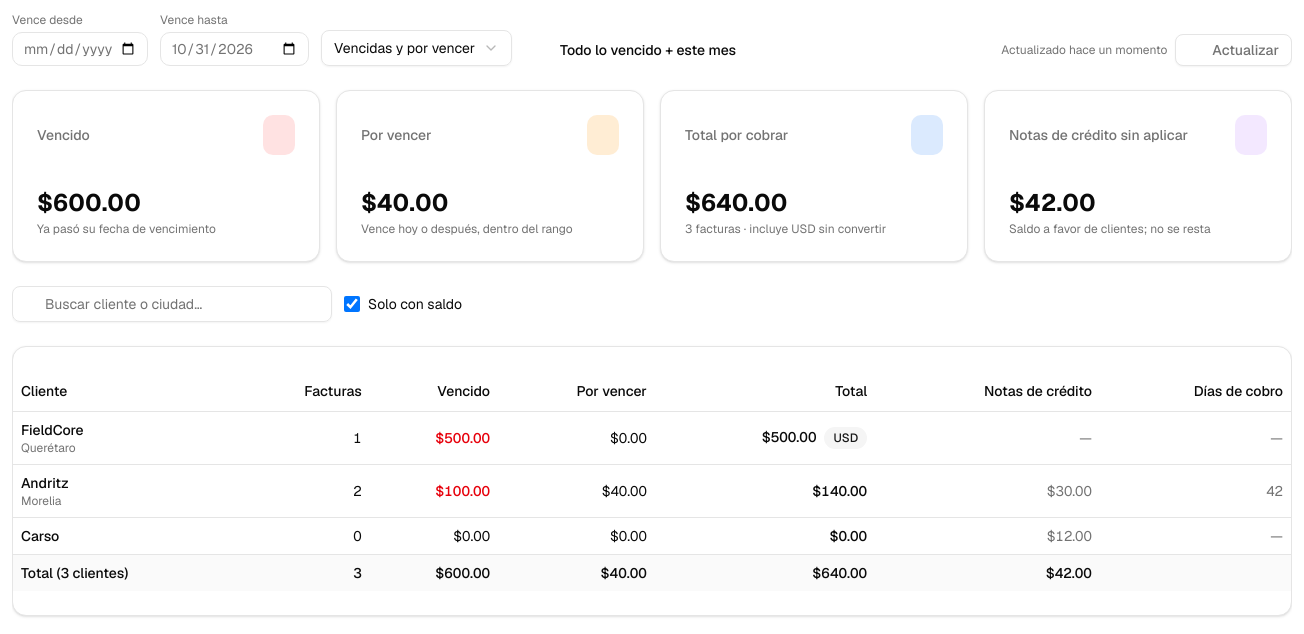
CustomersList › una búsqueda sin resultados lo dice (no culpa al rango)
Type "zzz" into the field labelled "Buscar cliente o ciudad…" at coordinates (172, 304), box [12,286,332,322]
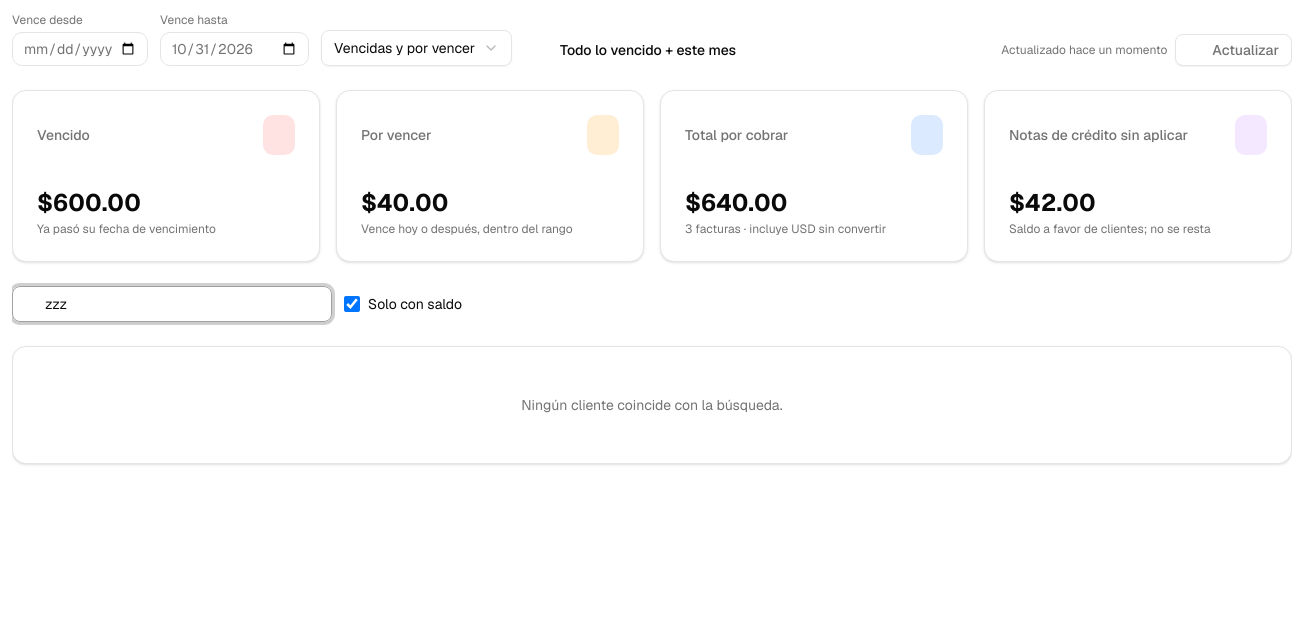
Result: the text "Ningún cliente coincide con la búsqueda." is shown at [521,396,783,414]
